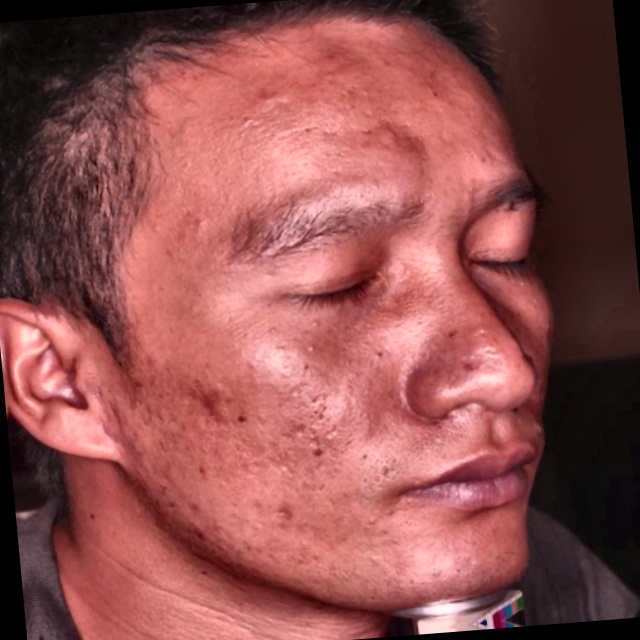comedone: (180, 517, 218, 544), (197, 387, 226, 415)
